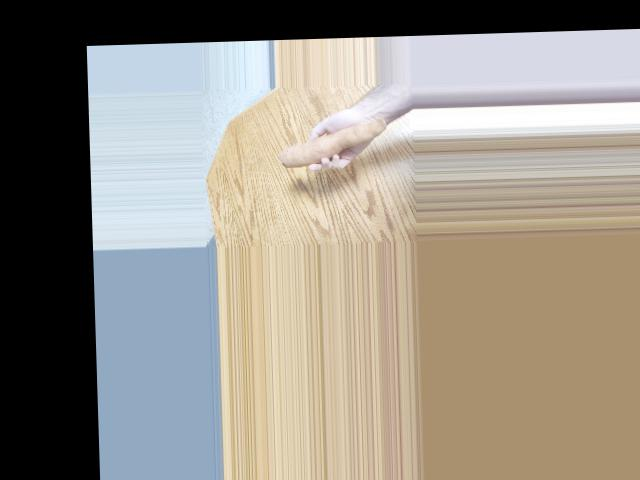sweet_potato: (262, 125, 375, 174)
